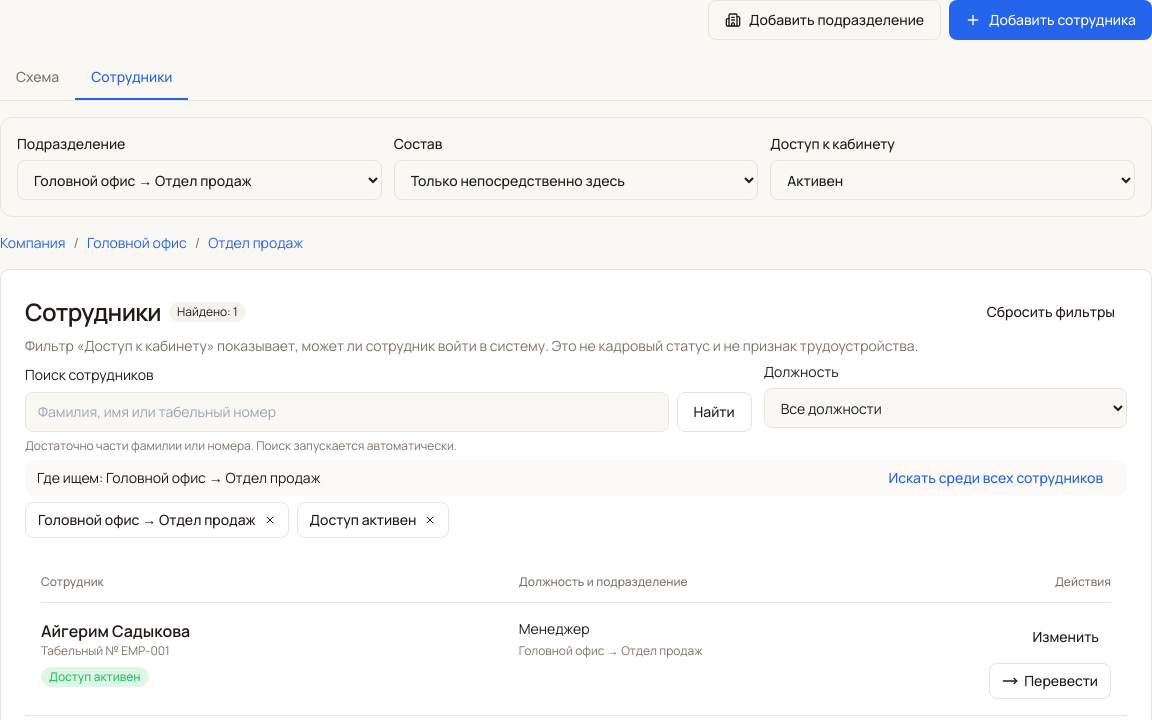
Test: StaffWorkspace › uses safe copy for the canonical preview_stale confirmation envelope
Click the button "Перевести" at (1050, 681), box [989,663,1111,699]
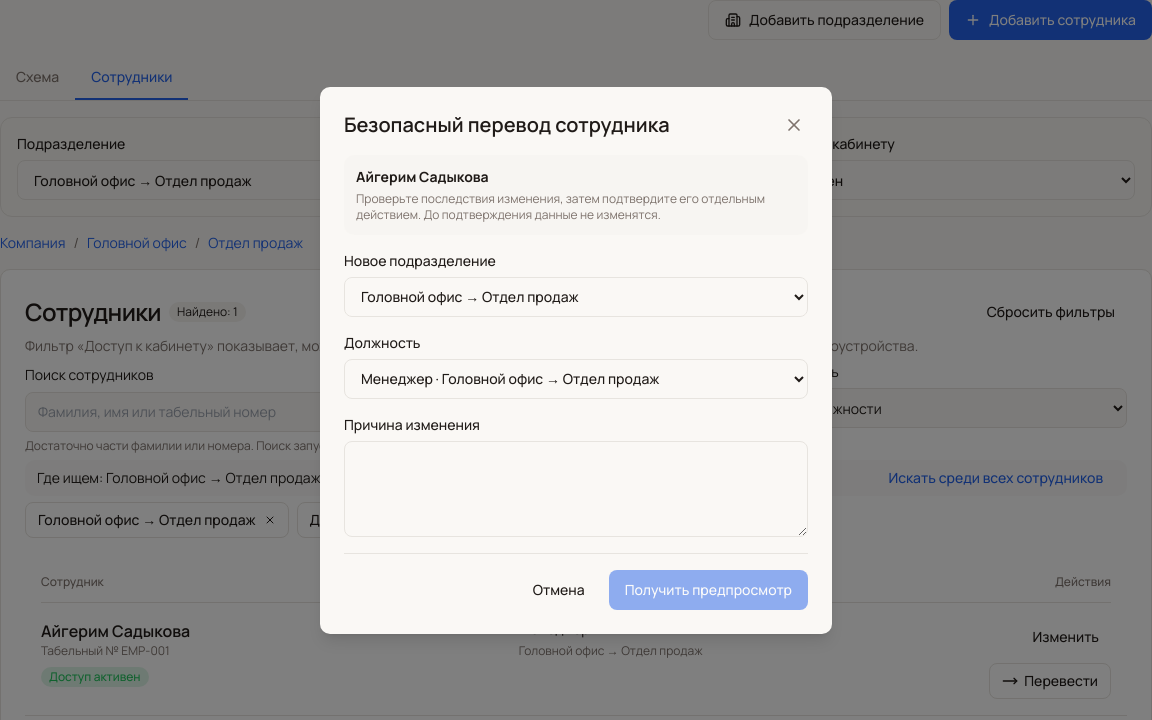
Type "Новая команда" into the text box labelled "Причина изменения" at (576, 488), box [344,440,808,536]
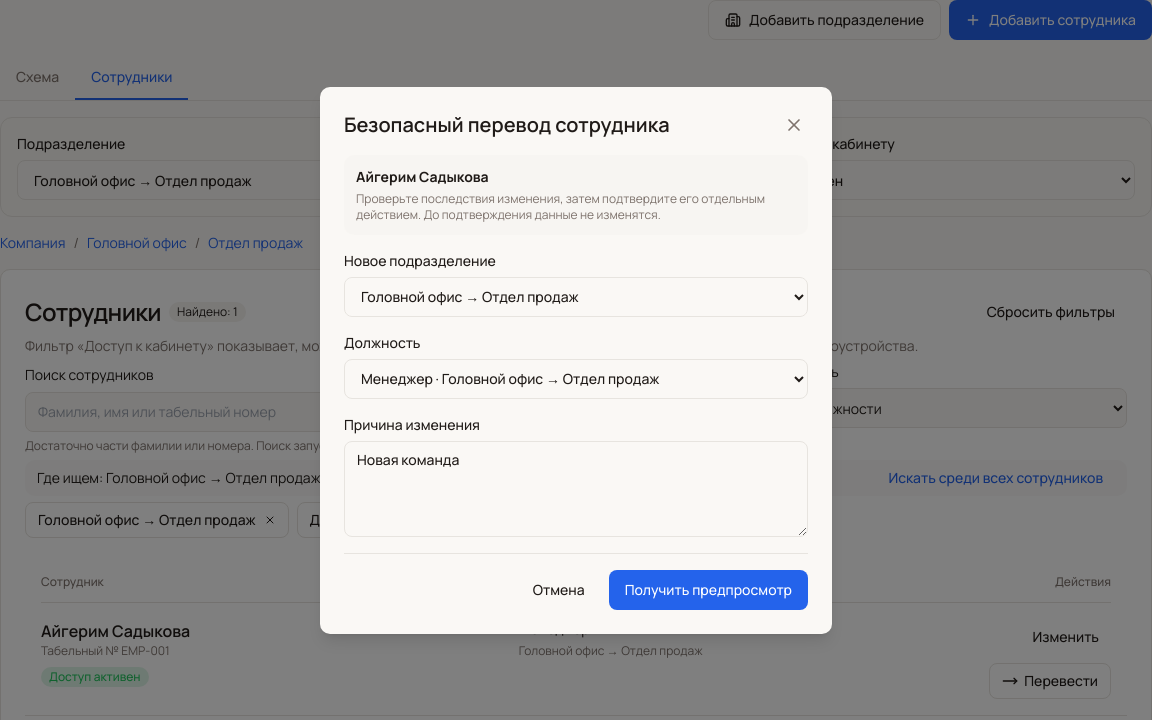
Click the button "Получить предпросмотр" at (708, 590), box [609,570,808,610]
(page scrolled)
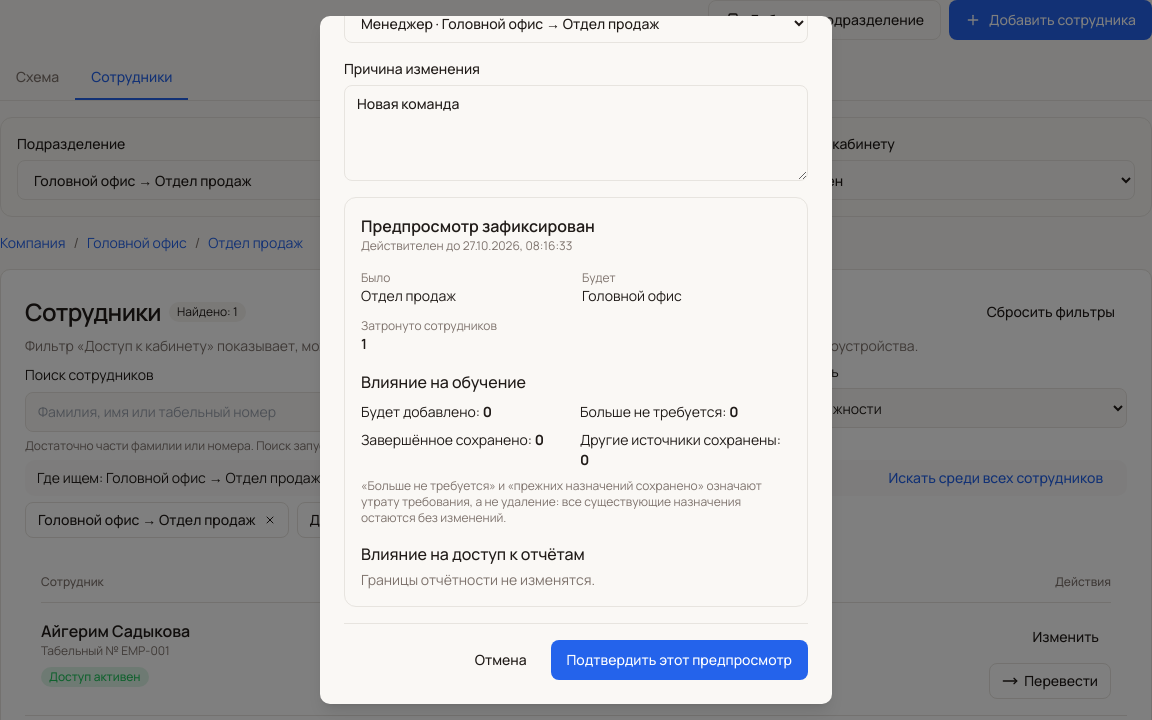
Click the button "Подтвердить этот предпросмотр" at (679, 660), box [550,640,808,680]
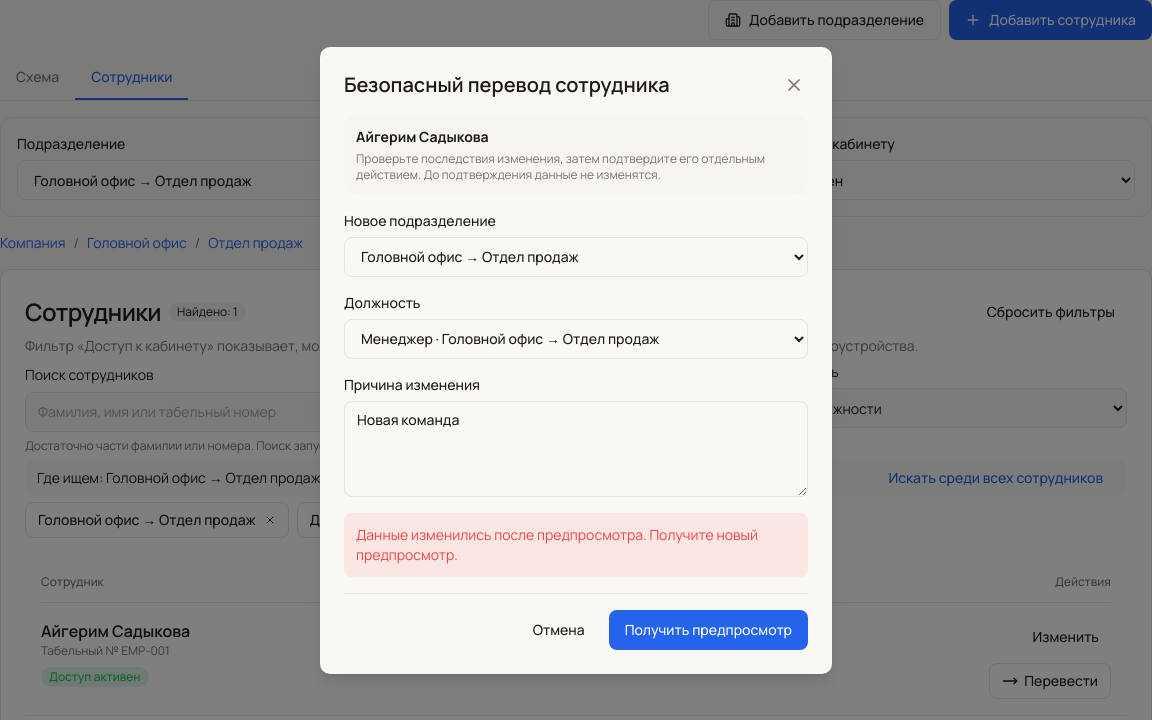
Now the button "Получить предпросмотр" is enabled, box [609,610,808,650]
Now the message reads "Данные изменились после предпросмотра. Получите новый предпросмотр.", box [356,524,758,564]
Now the button "Подтвердить этот предпросмотр" is gone
